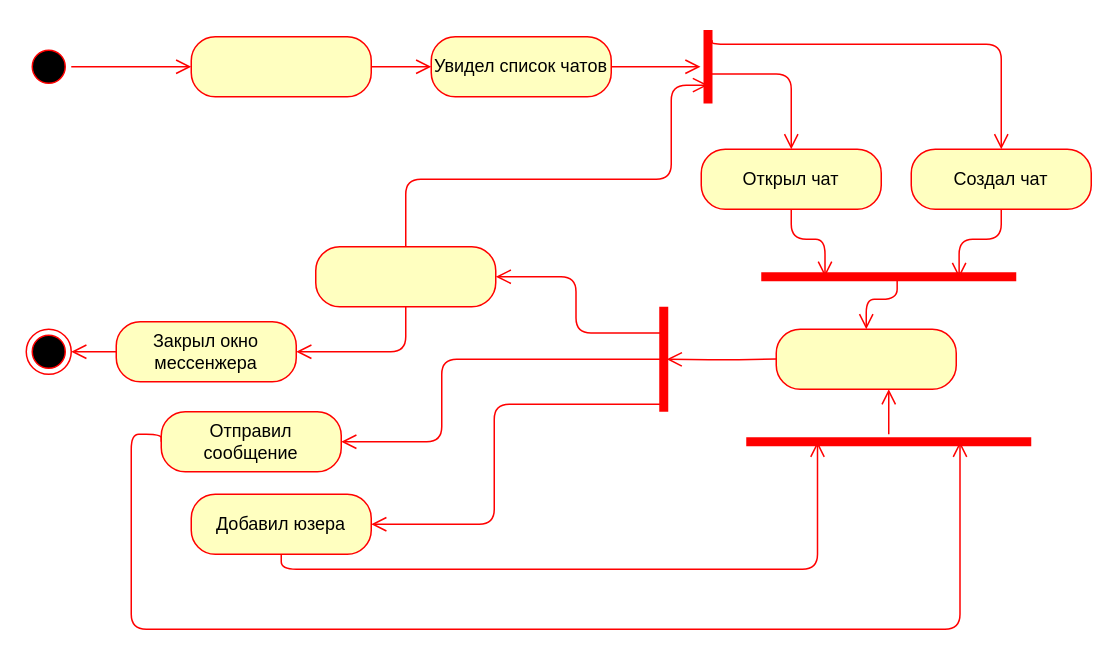
This 1118x671 diagram has some shape labels left out. The centre of each missing label's shape, as x and y in pixels:
"Закрыл чат" belongs at [405,276].
"Открыл окно мессенжера" belongs at [280,66].
"Увидел окно чата" belongs at [865,358].
